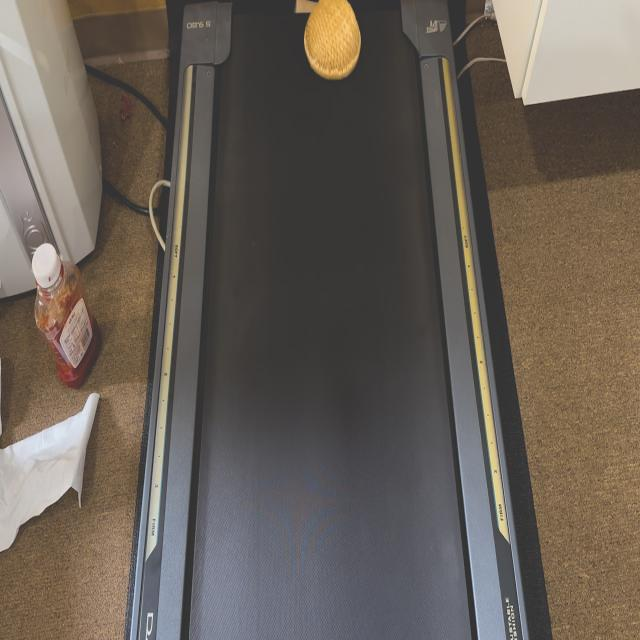Trash: (302, 0, 364, 80)
